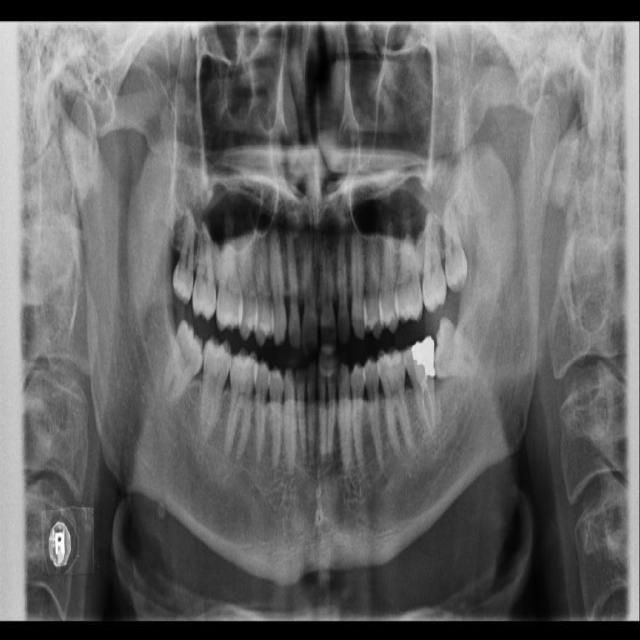Filling: (403, 335, 435, 387)
Root Canal Treatment: (422, 391, 434, 438), (426, 391, 434, 436)
impacted tooth: (432, 317, 485, 378)
